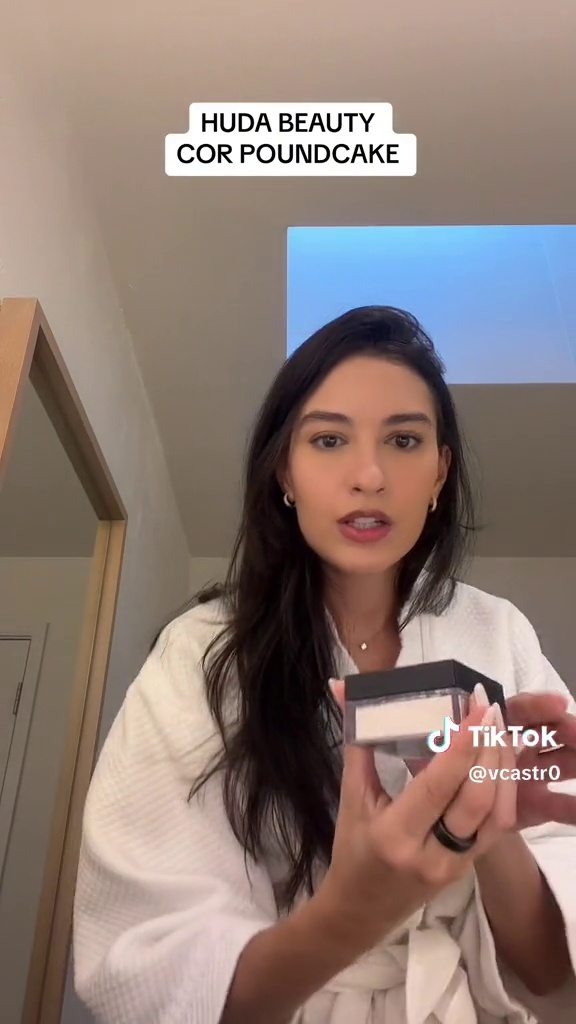train' :'yolo_data/train/images',: (340, 647, 514, 765)
